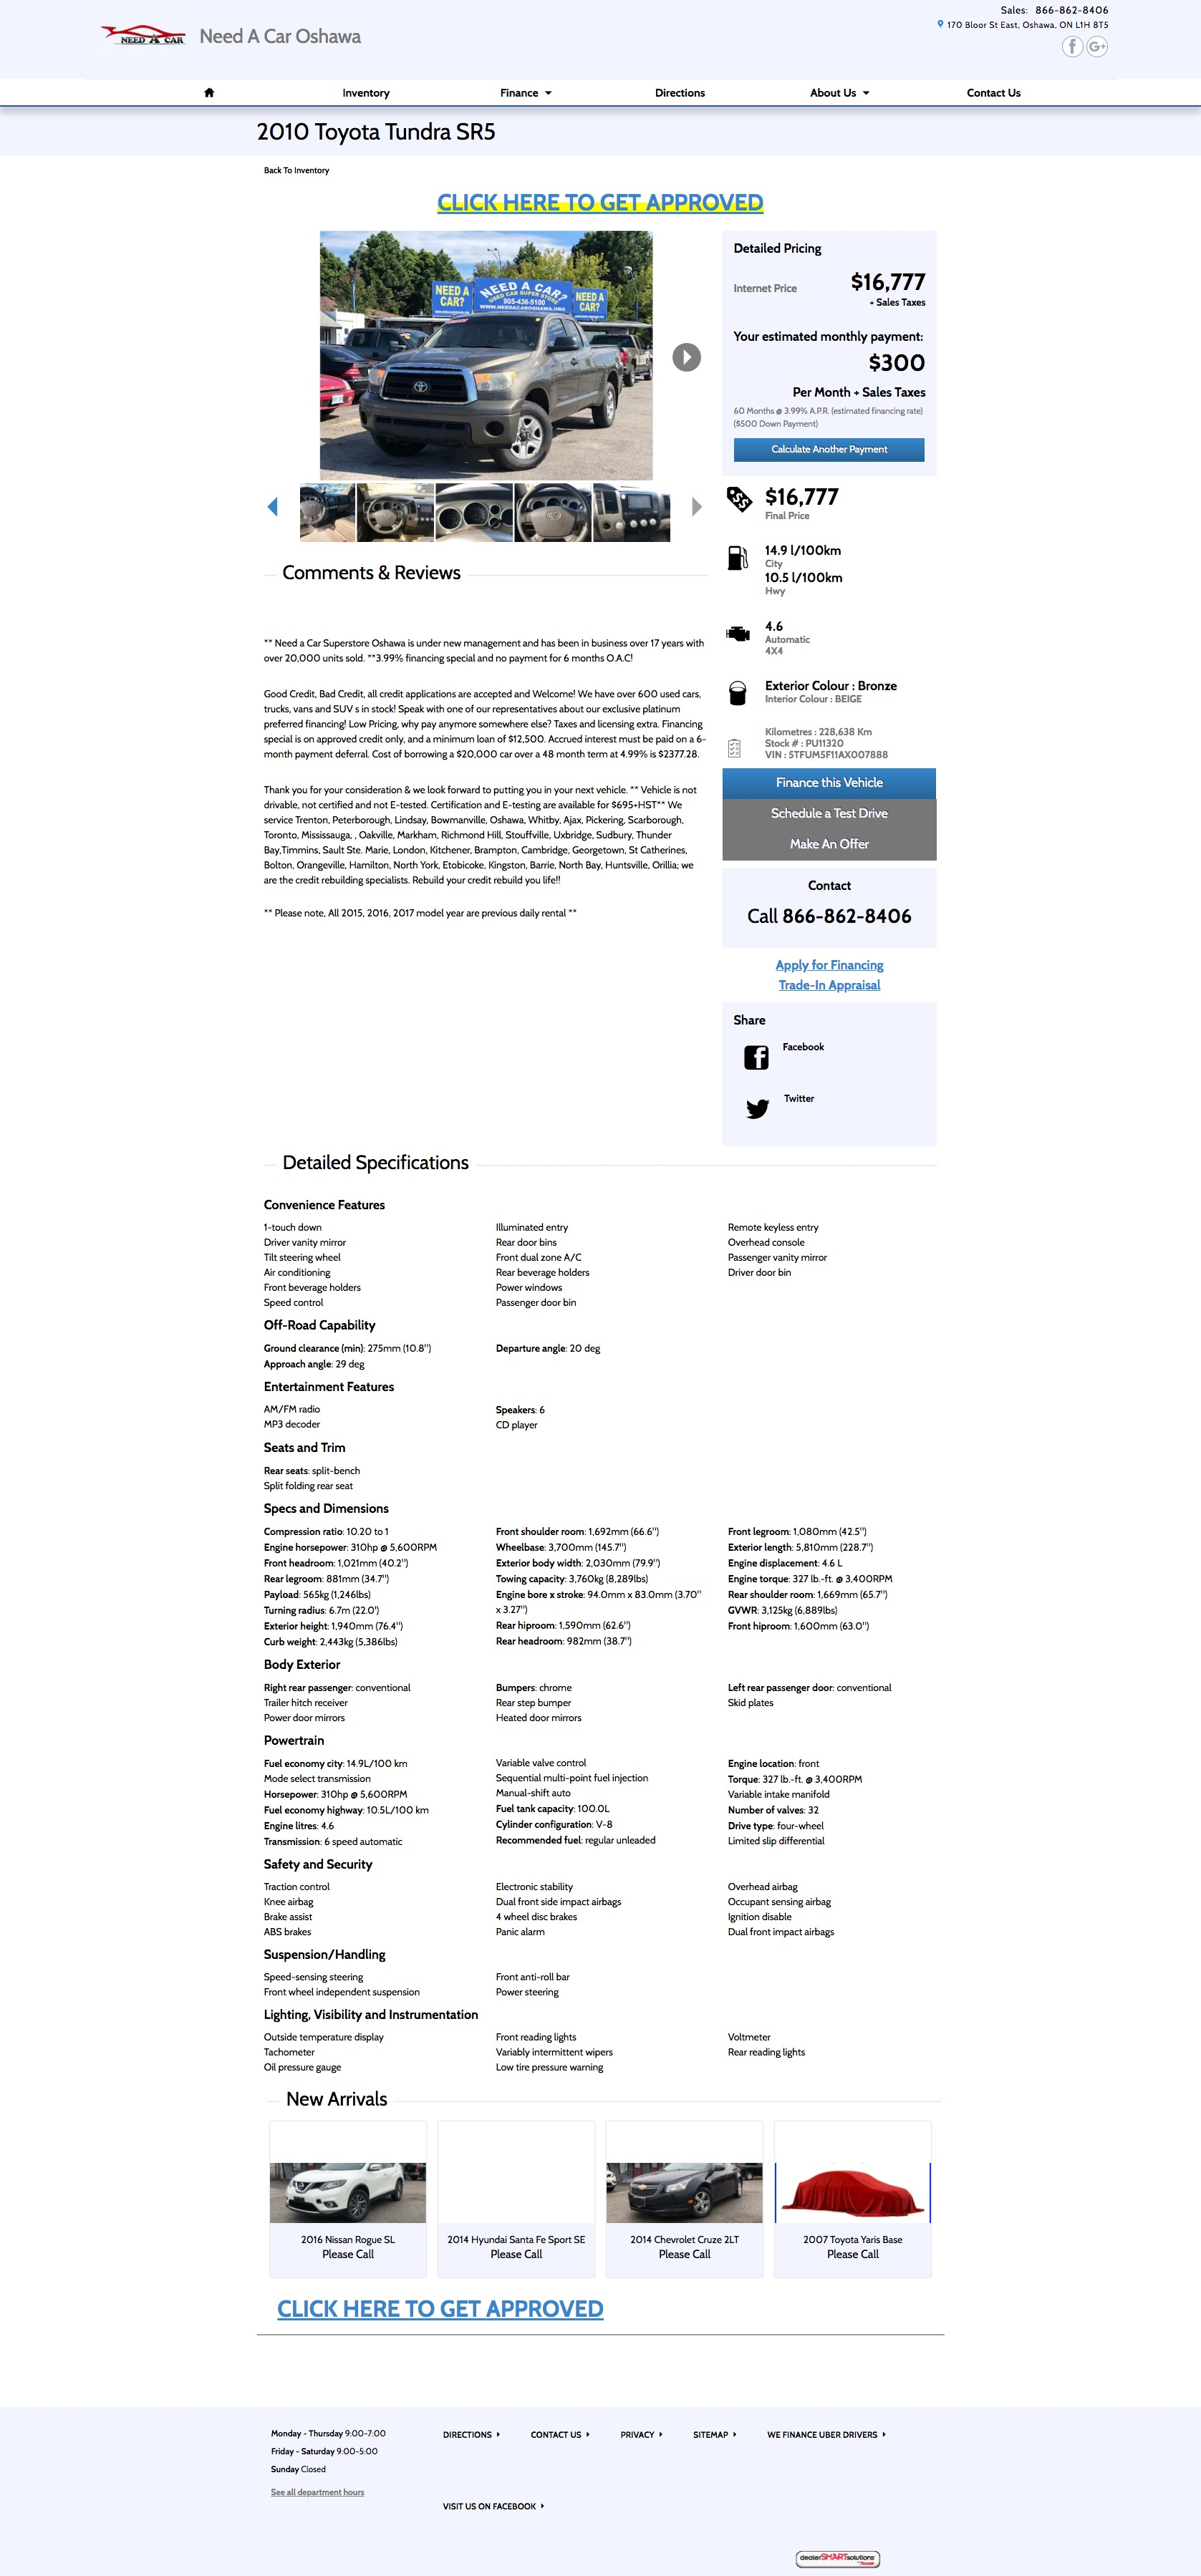car: (692, 496, 703, 517)
